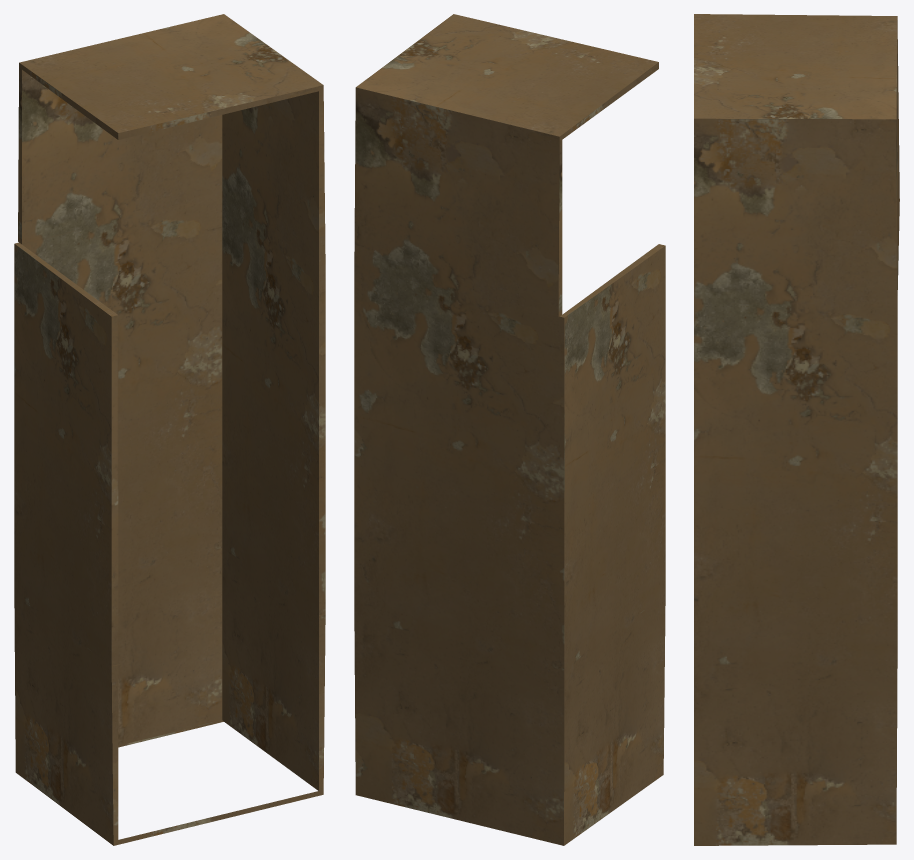
Rendered from Tower.fbx.
The picture shows the model from 3 angles, left to right: view 1: azimuth 30°, elevation 25°; view 2: azimuth 150°, elevation 25°; view 3: azimuth 270°, elevation 25°; orthographic projection. The views are drawn at different scales.
Visible parts, largest first — view 1: Tower; view 2: Tower; view 3: Tower.
Part boxes in pixels (left/top/right/bottom): Tower: left=14, top=14, right=325, bottom=845; Tower: left=354, top=14, right=665, bottom=845; Tower: left=694, top=14, right=899, bottom=845.
Bounding box in the file's own units: 320 × 1017 × 260.
